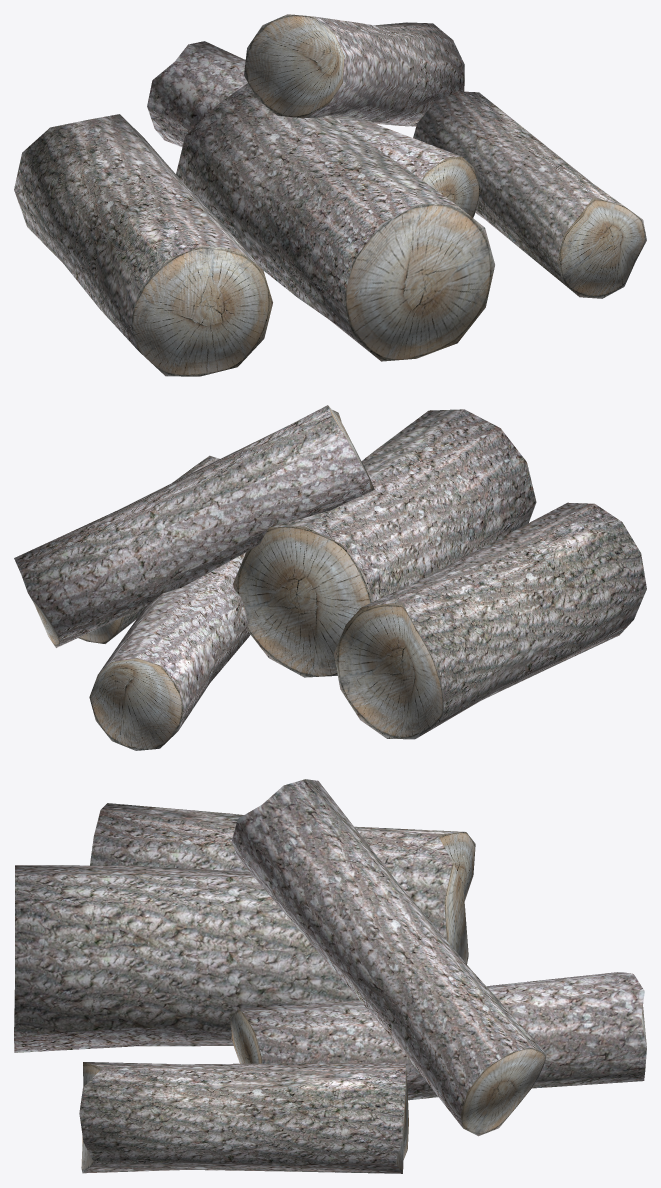
The model's file is firewood_logs.glb.
3 views of the same model, one above another, from view 1: azimuth 30°, elevation 25°; view 2: azimuth 150°, elevation 25°; view 3: azimuth 270°, elevation 25° (orthographic). The views are drawn at different scales.
Visible parts, largest first — view 1: Object_2; view 2: Object_2; view 3: Object_2.
Boxes of the visible parts, x1,y1,x2,y2 form: Object_2: (14, 14, 646, 376); Object_2: (14, 405, 646, 750); Object_2: (14, 779, 646, 1173).
Bounding box in the file's own units: 0.7409 × 0.3666 × 0.75.
1 material, 1 textured.
